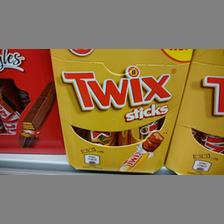Schokolade: (48, 49, 191, 171), (0, 47, 64, 155)
